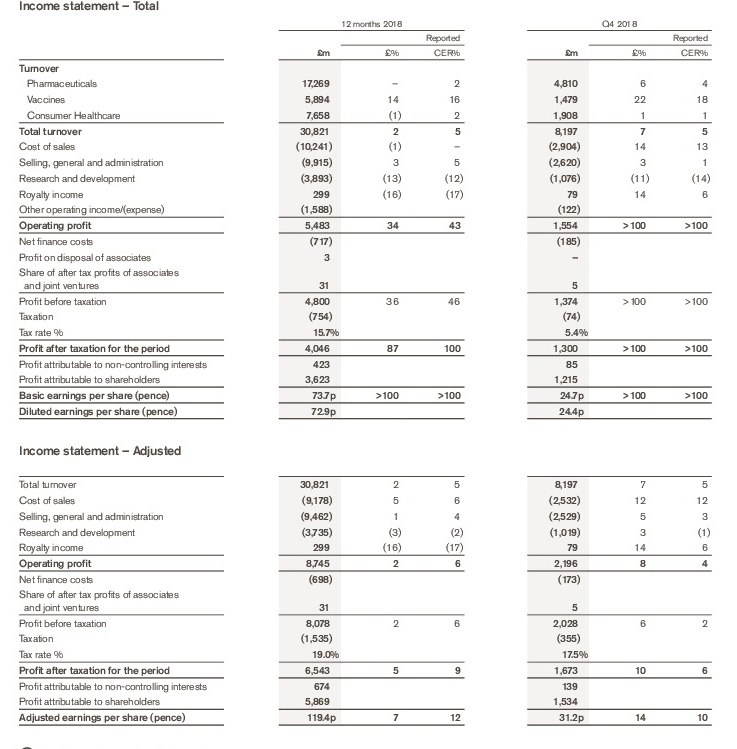table: (0, 0, 737, 749)
